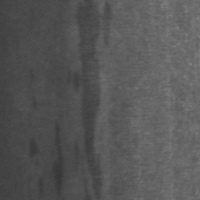inclusion: (71, 1, 120, 199), (44, 115, 70, 195), (25, 135, 42, 165)
